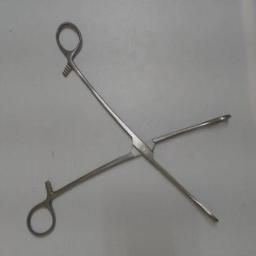Sponge Forceps: (24, 18, 234, 242)
